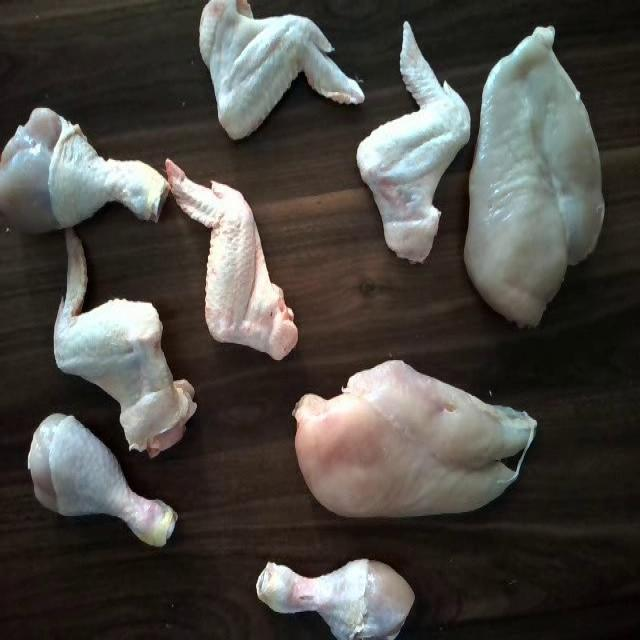breast: (294, 356, 544, 528), (476, 10, 605, 327)
leg: (29, 408, 182, 558), (0, 104, 170, 225), (258, 550, 422, 640)
wing: (46, 226, 202, 459), (160, 149, 296, 361), (186, 0, 365, 144)
